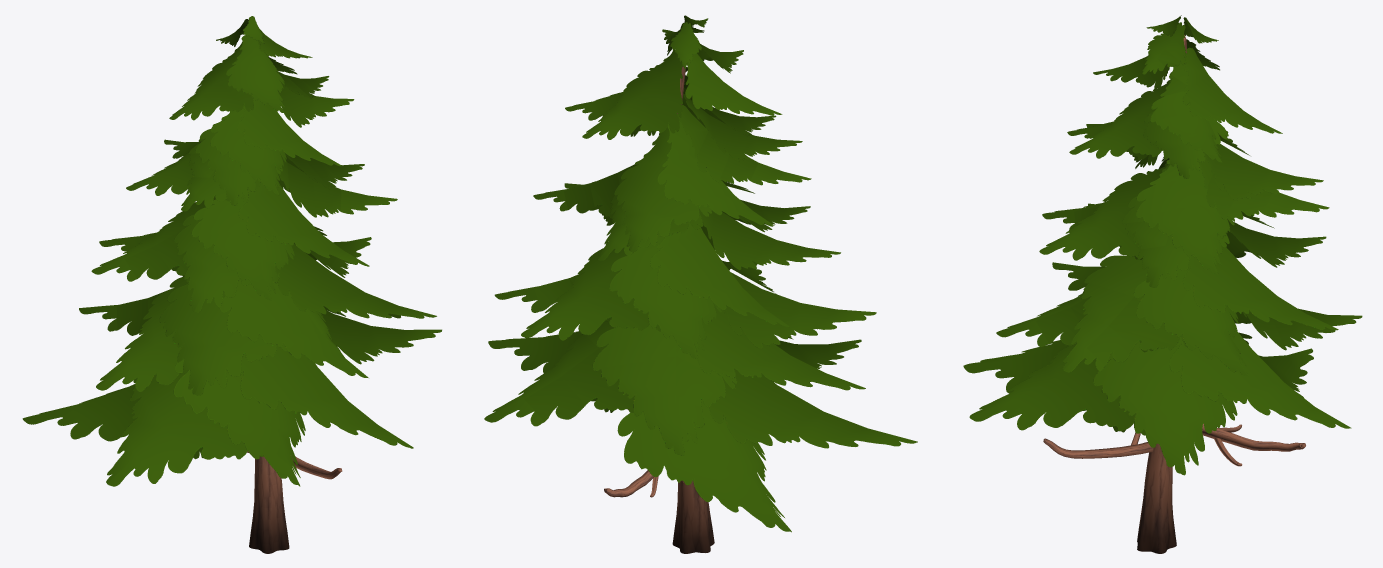
Rendered from Pine_2.gltf.
3 views of the same model, side by side, from view 1: azimuth 30°, elevation 25°; view 2: azimuth 150°, elevation 25°; view 3: azimuth 270°, elevation 25° (orthographic). The views are drawn at different scales.
Parts seen in each view (by area): view 1: Pine_2; view 2: Pine_2; view 3: Pine_2.
Part boxes in pixels (<box>): Pine_2: <box>22,16,441,553</box>; Pine_2: <box>484,15,917,553</box>; Pine_2: <box>963,15,1362,553</box>.
Bounding box in the file's own units: 5.73 × 7.38 × 5.22.
Materials: 2 (2 with a texture image).
